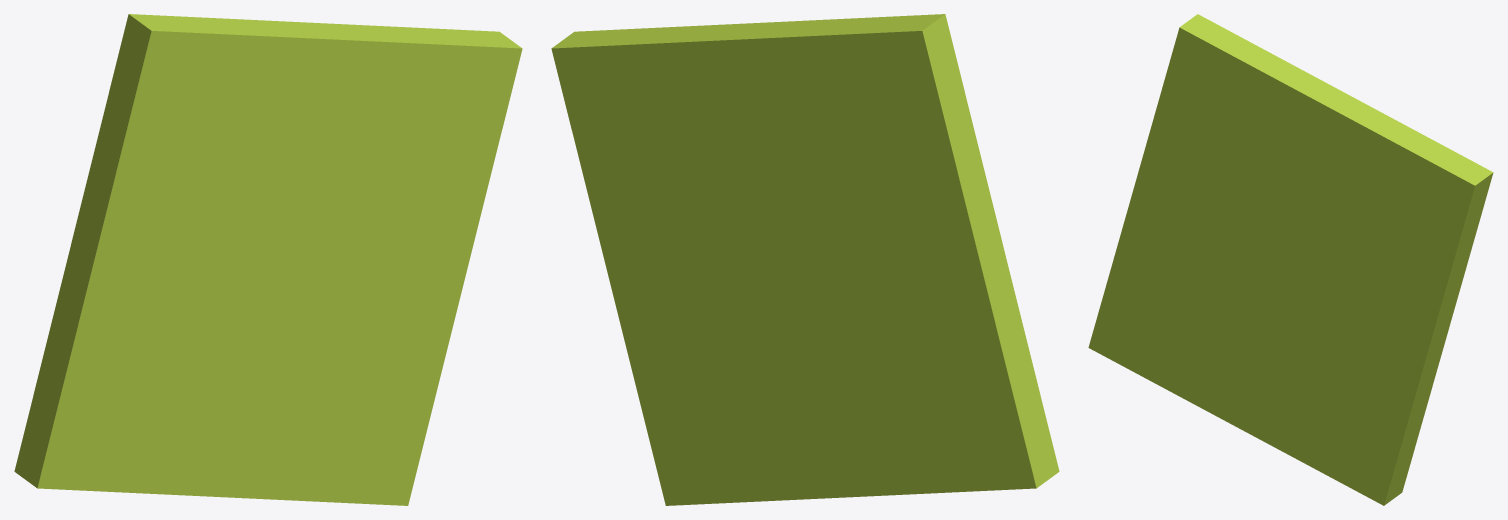
The picture shows the model from 3 angles, left to right: view 1: azimuth 30°, elevation 25°; view 2: azimuth 150°, elevation 25°; view 3: azimuth 330°, elevation 25°; orthographic projection. The views are drawn at different scales.
Parts seen in each view (by area): view 1: osm-way27917482-F-1; view 2: osm-way27917482-F-1; view 3: osm-way27917482-F-1.
Boxes of the visible parts, x1,y1,x2,y2 form: osm-way27917482-F-1: (14, 14, 522, 505); osm-way27917482-F-1: (551, 14, 1059, 505); osm-way27917482-F-1: (1088, 14, 1493, 505).
Size of the model in its own units: 1.83 by 1.93 by 0.15.
